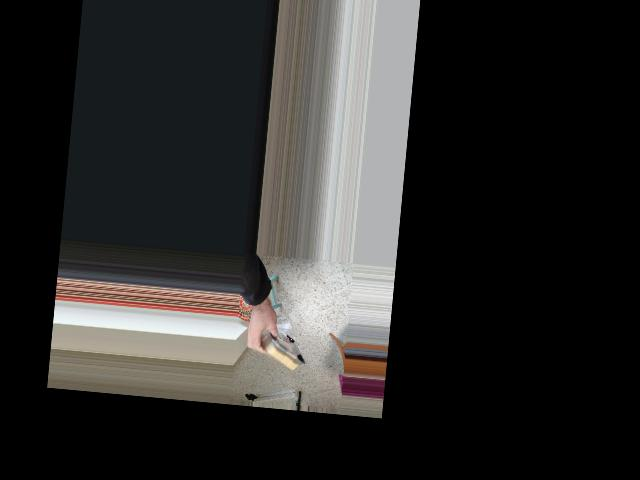cheese: (237, 314, 317, 381)
